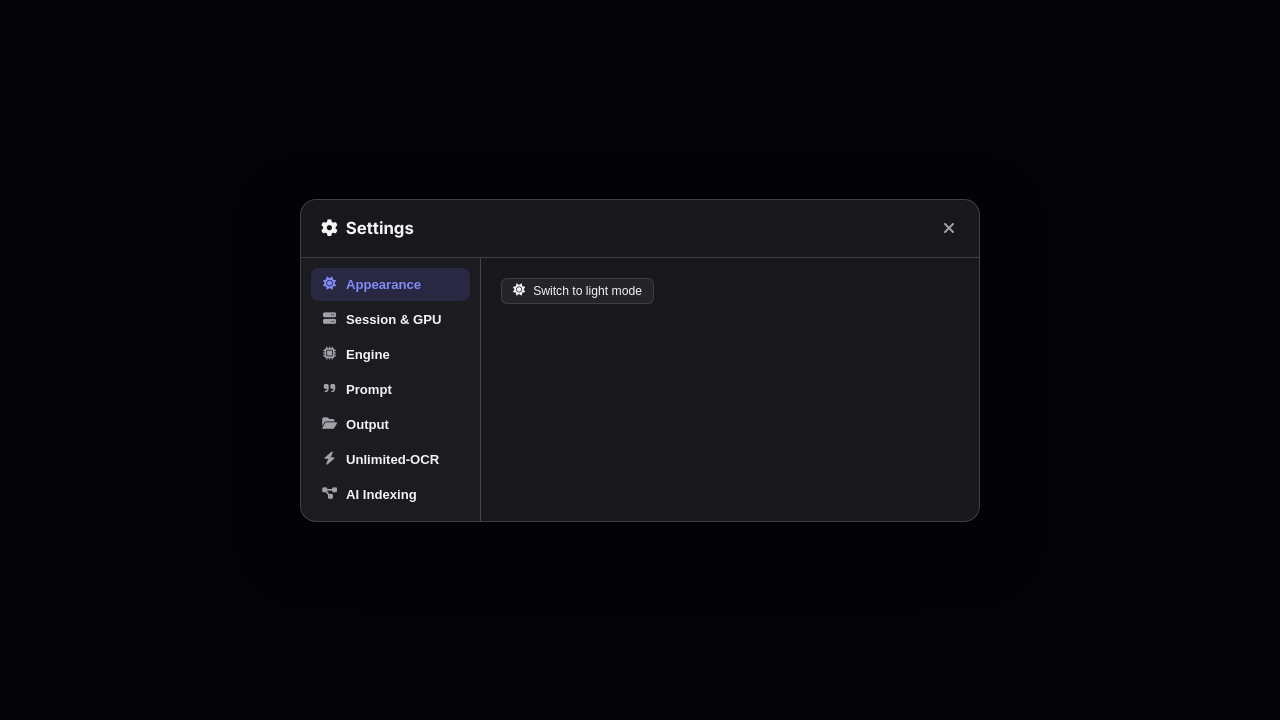
Test: SettingsModal — role gating › shows GLM params only when engine=glm, and Unlimited params only when engine=unlimited
Later steps or results of the test are not shown.
Click the button with test id "settings-nav-engine": (390, 354) [311,338,470,370]
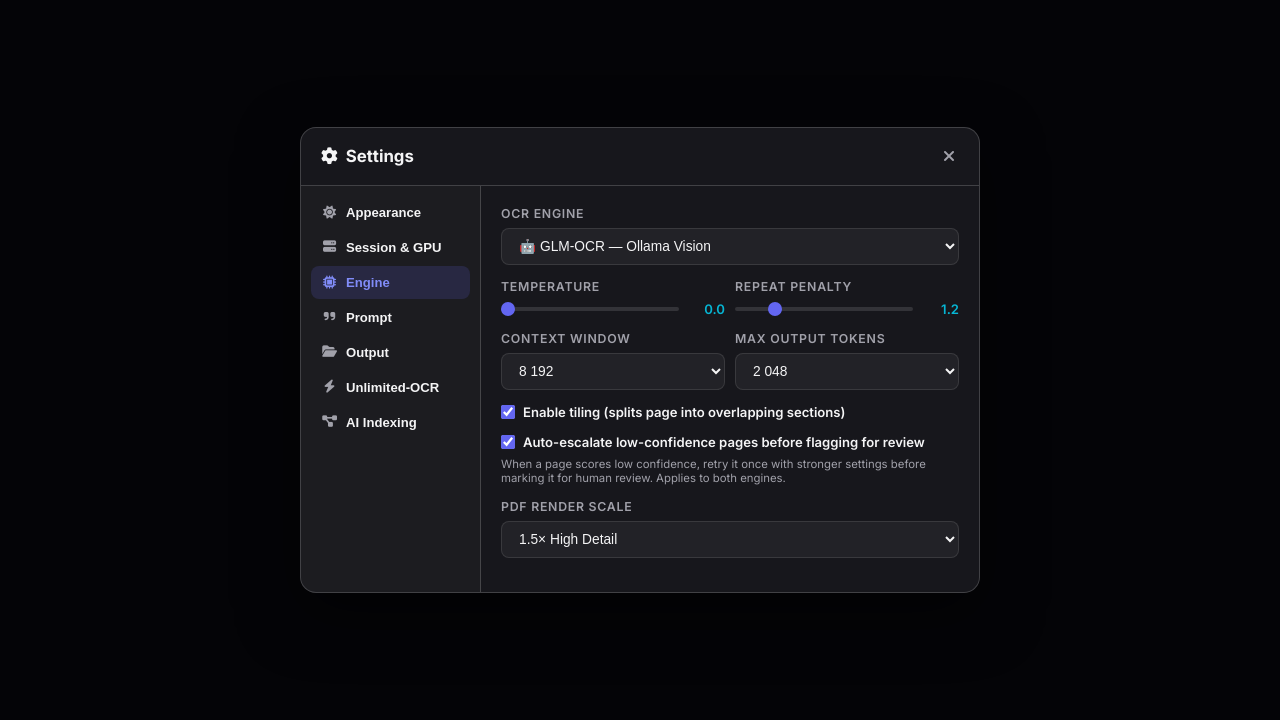
Result: the element with test id "glm-params" is shown at [501,279,959,420]
